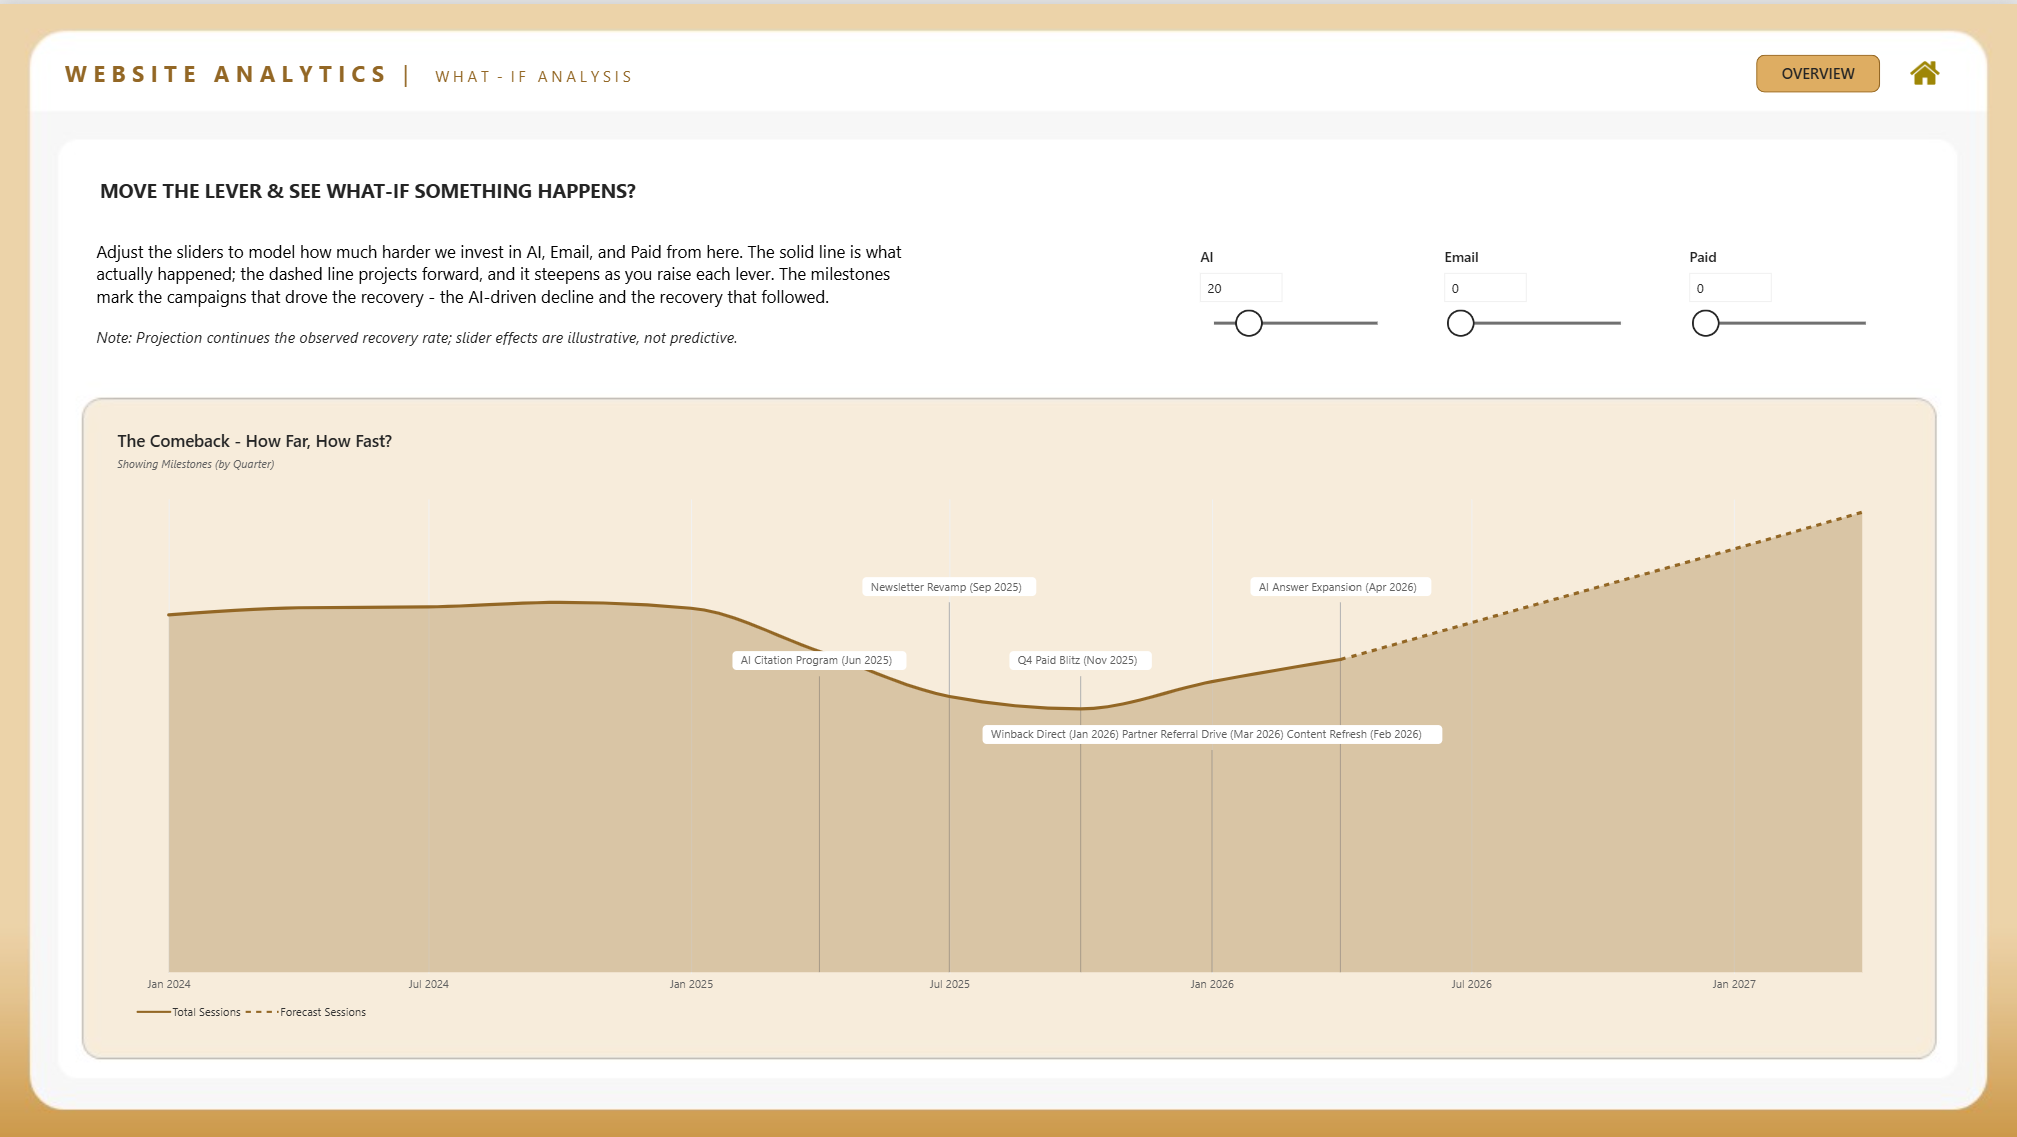

What the dashboard file says about the page in this screenshot:
{"tool":"powerbi","page":{"name":"Diagnose?","canvas":[1920,1080],"ordinal":3},"visuals":[{"type":"pageNavigator","box":[1671.8,48.4,118.4,36.3],"z":0},{"type":"textbox","box":[61.9,51.1,720.9,44.4],"z":1000},{"type":"lineStackedColumnComboChart","title":"The Comeback - How Far, How Fast?","fields":{"Category":["dim_date.QuarterStartDate"],"Y":["_Measures.Campaign Marker"],"Y2":["_Measures.Total Sessions (trend)","_Measures.Forecast Sessions"]},"box":[91.4,390,1750,602.9],"z":2000},{"type":"slicer","fields":{"Values":["WhatIf AI.WhatIf AI"]},"box":[1134.3,231.1,194.3,150],"z":3000},{"type":"slicer","fields":{"Values":["WhatIf Email.WhatIf Email"]},"box":[1367.1,231.1,194.3,150],"z":4000},{"type":"slicer","fields":{"Values":["WhatIf Paid.WhatIf Paid"]},"box":[1600,231.1,194.3,150],"z":5000},{"type":"textbox","box":[91.4,225.7,772.9,150],"z":6000},{"type":"textbox","box":[95.7,164.3,612.9,34.3],"z":7000},{"type":"image","box":[1818.4,51.1,28.2,28.2],"z":8000}]}

Visuals, with their boxes in screenshot pixels (x1, y1, x2, y2), scaled from the page's 1920x1080 canvas onto the 2017x1137 screenshot:
pageNavigator: 1756, 51, 1881, 89
textbox: 65, 54, 822, 101
"The Comeback - How Far, How Fast?" lineStackedColumnComboChart: 96, 411, 1934, 1045
slicer - WhatIf AI.WhatIf AI: 1192, 243, 1396, 401
slicer - WhatIf Email.WhatIf Email: 1436, 243, 1640, 401
slicer - WhatIf Paid.WhatIf Paid: 1681, 243, 1885, 401
textbox: 96, 238, 908, 396
textbox: 101, 173, 744, 209
image: 1910, 54, 1940, 83
